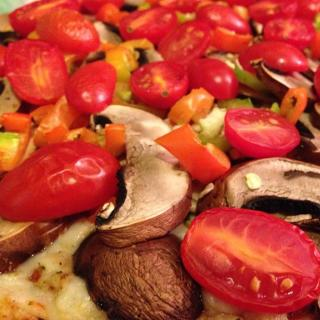tomato: (176, 207, 320, 307), (9, 137, 123, 230), (5, 37, 74, 105), (227, 106, 300, 160), (127, 60, 190, 112), (38, 7, 102, 56), (63, 60, 118, 114), (118, 5, 182, 46), (157, 20, 213, 66), (263, 14, 319, 59), (185, 54, 240, 96), (239, 43, 310, 73), (198, 4, 252, 34), (210, 26, 256, 50)
